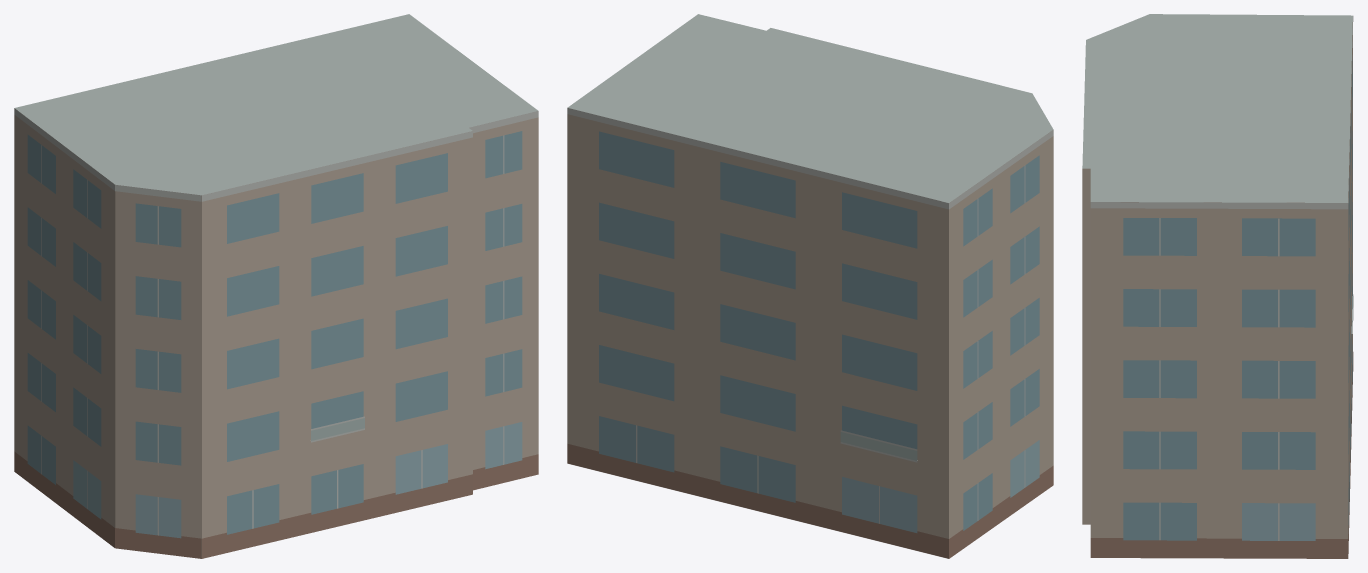
Rendered from survey-upis-32873840.glb.
The picture shows the model from 3 angles, left to right: view 1: azimuth 30°, elevation 25°; view 2: azimuth 150°, elevation 25°; view 3: azimuth 270°, elevation 25°; orthographic projection. The views are drawn at different scales.
Visible parts, largest first — view 1: survey-upis-32873840.tmp; view 2: survey-upis-32873840.tmp; view 3: survey-upis-32873840.tmp.
Boxes of the visible parts, left/top/right/bottom form: survey-upis-32873840.tmp: left=14, top=14, right=538, bottom=558; survey-upis-32873840.tmp: left=567, top=14, right=1053, bottom=558; survey-upis-32873840.tmp: left=1082, top=14, right=1353, bottom=558.
Bounding box in the file's own units: 15.61 × 13.7 × 9.47.
